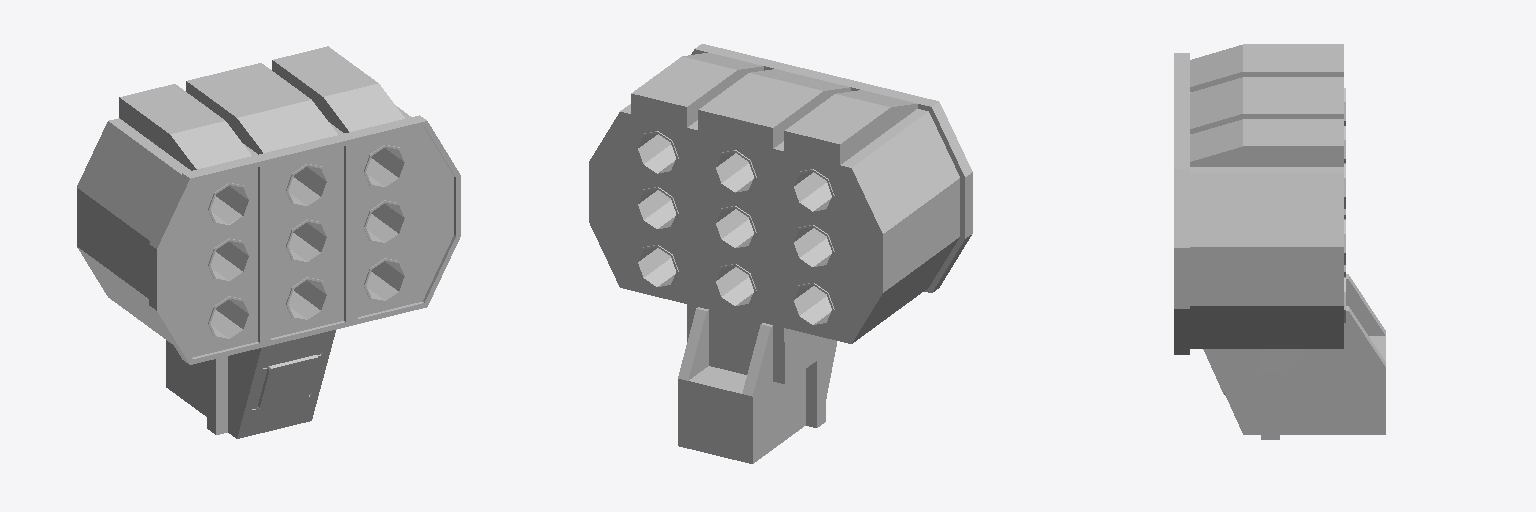
File: Rockets launcher LOW.OBJ
3 views of the same model, side by side, from view 1: azimuth 30°, elevation 25°; view 2: azimuth 150°, elevation 25°; view 3: azimuth 270°, elevation 25° (orthographic).
Parts seen in each view (by area): view 1: Group5046, Group28794, Group22905, Group38884, Group275, Group24896, Group4187, Group28405; view 2: Group180, Group5046, Group28405, Group22905, Group275, Group24896, Group23009; view 3: Group5046, Group28405, Group275.
Part boxes in pixels (left/top/right/bottom): Group5046: left=77, top=46, right=410, bottom=438; Group28794: left=162, top=127, right=453, bottom=357; Group22905: left=210, top=147, right=404, bottom=338; Group38884: left=157, top=121, right=460, bottom=364; Group275: left=149, top=115, right=426, bottom=364; Group24896: left=208, top=145, right=406, bottom=340; Group4187: left=252, top=352, right=322, bottom=409; Group28405: left=166, top=340, right=206, bottom=416; Group180: left=589, top=94, right=882, bottom=383; Group5046: left=620, top=53, right=959, bottom=427; Group28405: left=678, top=307, right=805, bottom=463; Group22905: left=638, top=134, right=831, bottom=324; Group275: left=695, top=44, right=972, bottom=292; Group24896: left=636, top=131, right=834, bottom=326; Group23009: left=691, top=49, right=964, bottom=292; Group5046: left=1190, top=44, right=1343, bottom=439; Group28405: left=1280, top=274, right=1385, bottom=434; Group275: left=1174, top=53, right=1189, bottom=354.
Size of the model in its own units: 1.98 by 2 by 1.19.